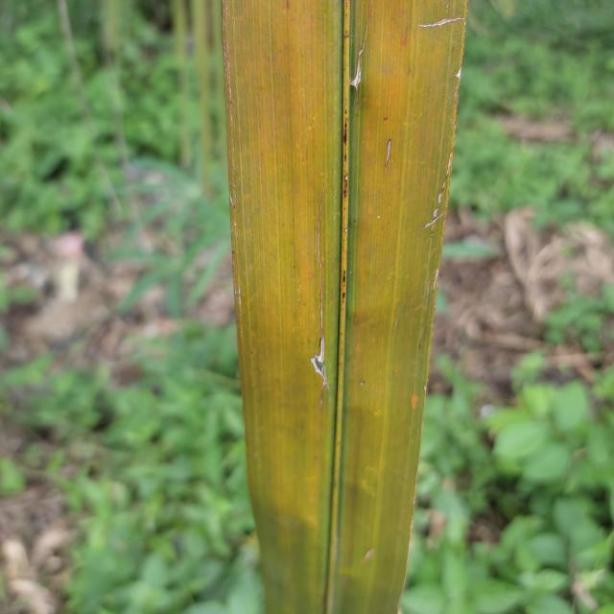Megnesium: (218, 0, 468, 614)
